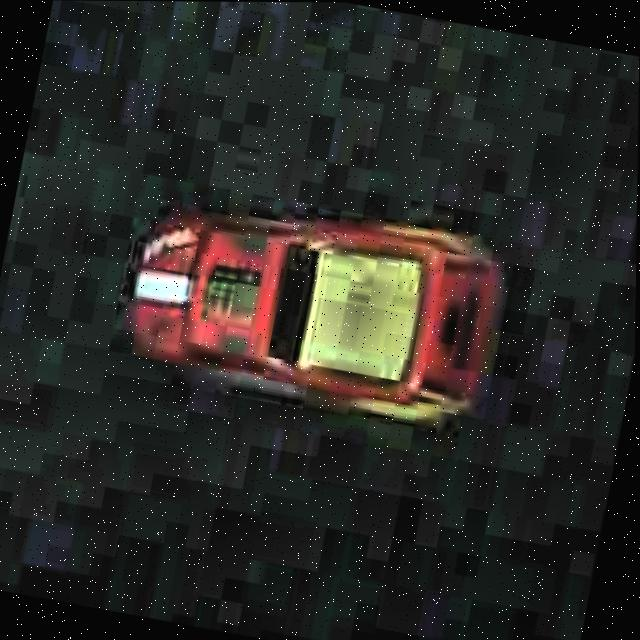car: (110, 173, 514, 451)
